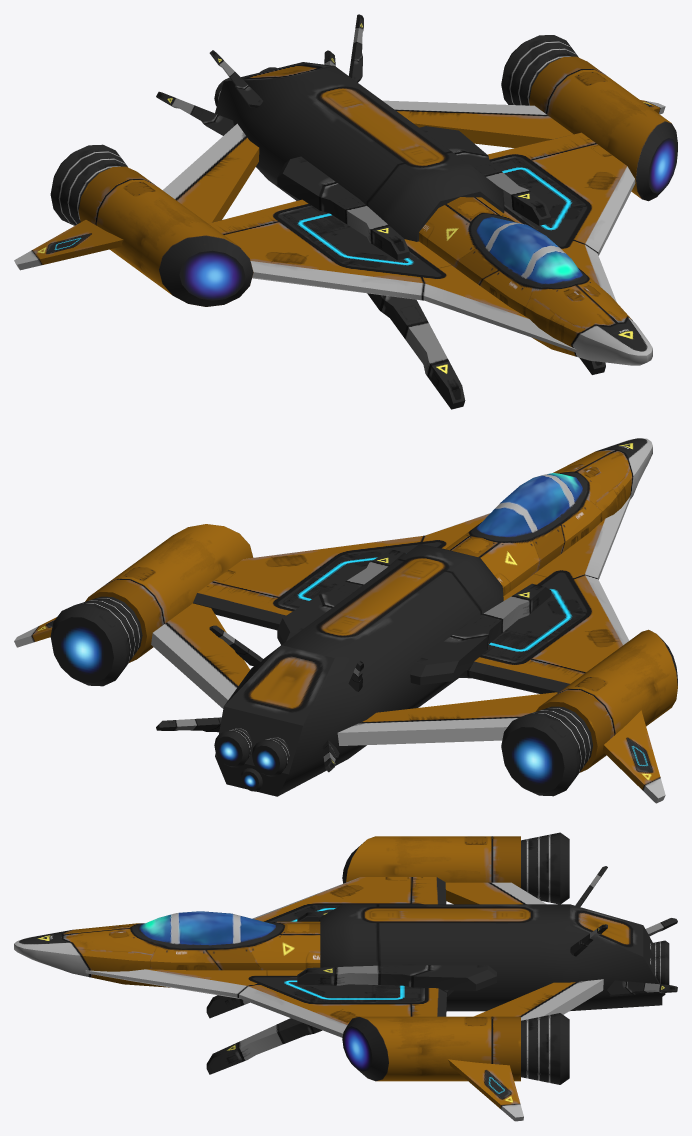
The model's file is YellowLaser.fbx.
The picture shows the model from 3 angles, top to bottom: view 1: azimuth 30°, elevation 25°; view 2: azimuth 150°, elevation 25°; view 3: azimuth 270°, elevation 25°; orthographic projection. The views are drawn at different scales.
Visible parts, largest first — view 1: StarSparrow06; view 2: StarSparrow06; view 3: StarSparrow06.
Boxes of the visible parts, box(x1,y1,x2,y2) form: StarSparrow06: box(14, 14, 677, 409); StarSparrow06: box(14, 438, 677, 803); StarSparrow06: box(14, 832, 677, 1121).
Size of the model in its own units: 1075 by 288 by 1161.
1 material, 1 textured.
